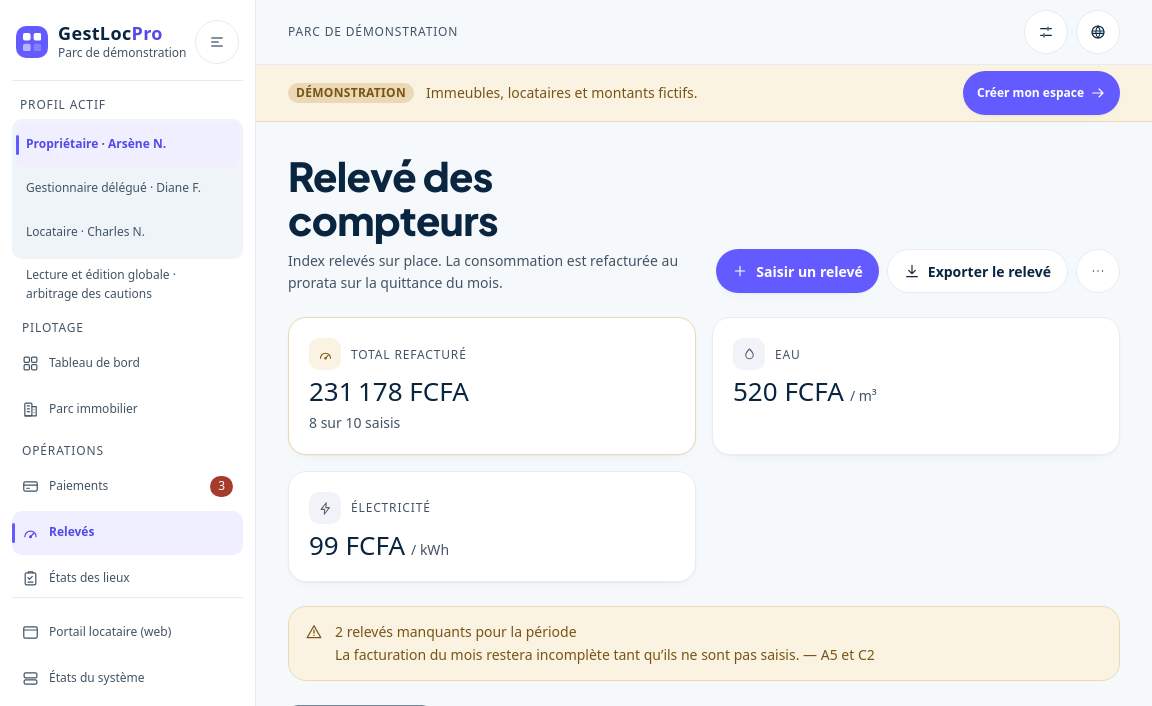
Scenario: l’historique des prix › n’ouvre plus le calendrier du navigateur
Click the button named "Autres actions" at (1098, 271), box [1076,249,1120,293]
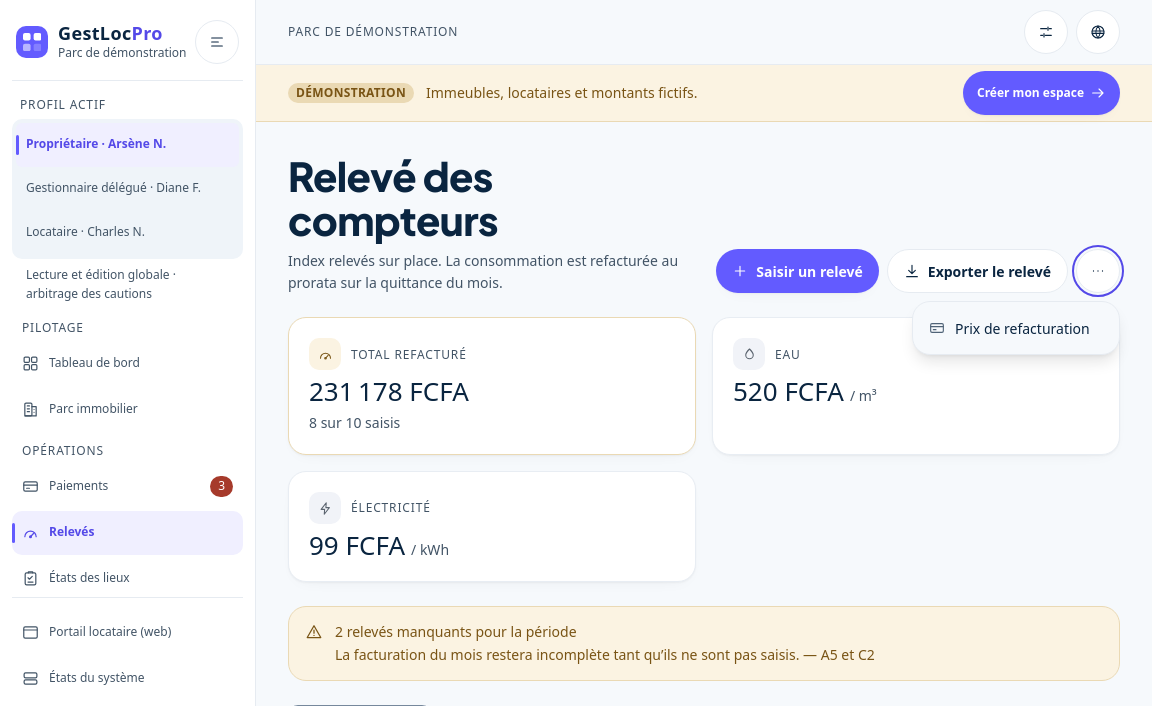
Click the menu item "Prix de refacturation" at (1016, 328), box [917,306,1115,350]
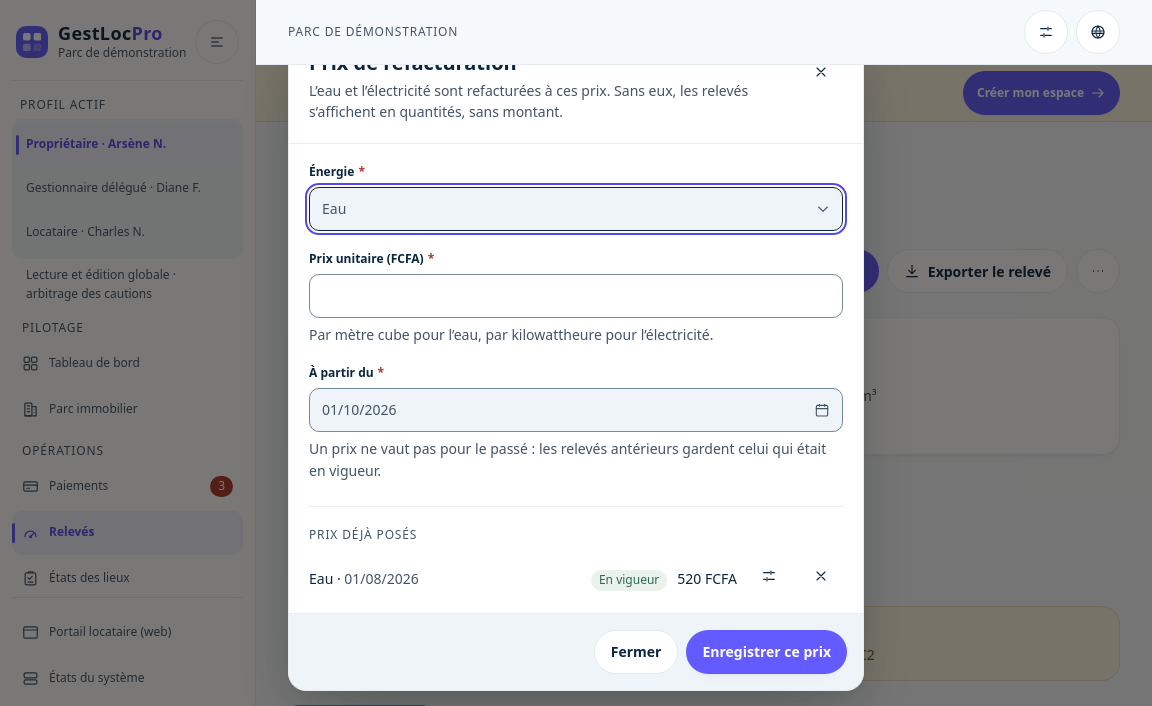
Check: the button labelled "01/10/2026" is shown, box [309,388,843,432]
